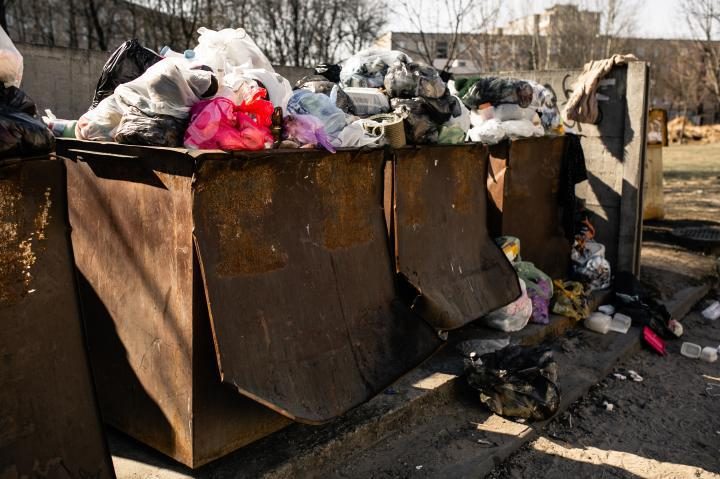Container: (63, 140, 394, 469), (2, 158, 117, 479), (390, 150, 516, 333), (510, 142, 572, 287)
Garbage: (461, 357, 578, 427), (184, 28, 293, 91), (616, 269, 690, 344), (191, 92, 284, 150), (454, 353, 508, 444), (118, 59, 222, 106), (69, 97, 184, 138), (0, 80, 63, 150), (642, 326, 719, 374), (347, 34, 416, 87), (490, 281, 561, 330), (571, 222, 620, 292), (94, 34, 149, 85), (0, 106, 56, 154), (547, 272, 590, 329), (453, 74, 534, 104), (527, 85, 573, 137), (291, 84, 352, 121), (332, 80, 389, 118), (280, 111, 337, 146), (388, 62, 442, 96), (512, 261, 558, 300), (327, 116, 383, 145), (596, 299, 630, 341), (462, 114, 506, 142), (495, 233, 522, 271), (464, 332, 516, 351), (421, 101, 454, 130), (396, 117, 426, 142), (504, 113, 548, 130), (450, 111, 472, 138)
